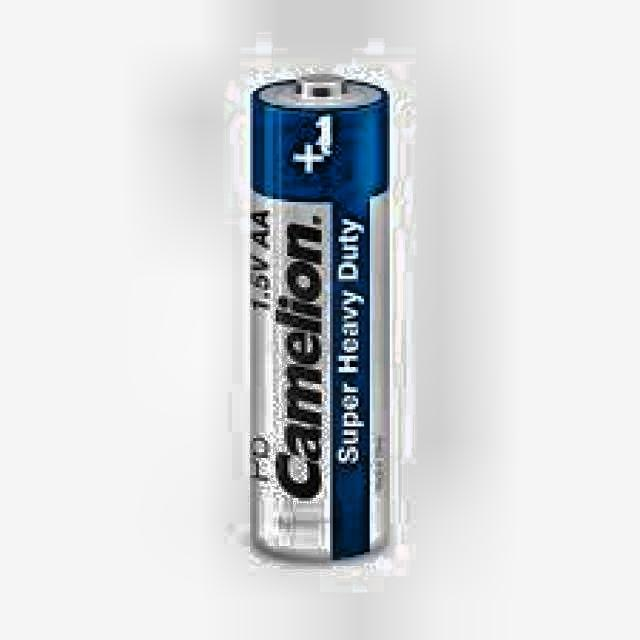Non-Valuable Waste - Batteries: (250, 74, 387, 558)
